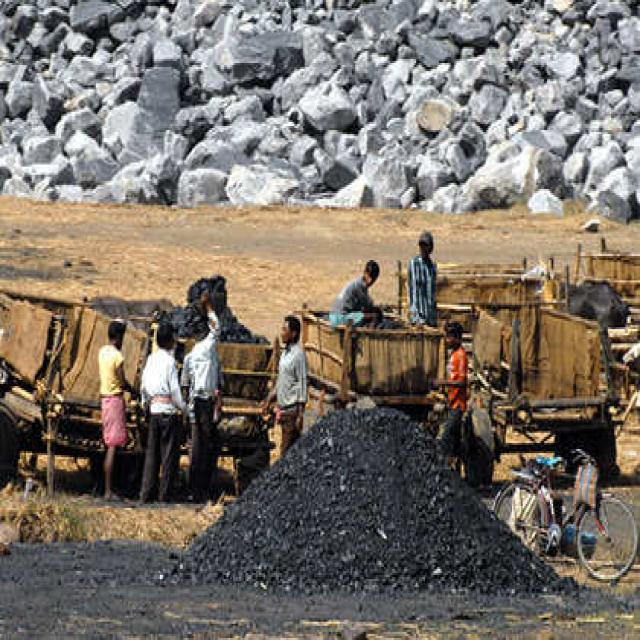person: (180, 298, 232, 500), (136, 320, 186, 503), (259, 294, 314, 450), (93, 315, 129, 500), (434, 326, 474, 458), (328, 246, 386, 334), (406, 223, 448, 334)
